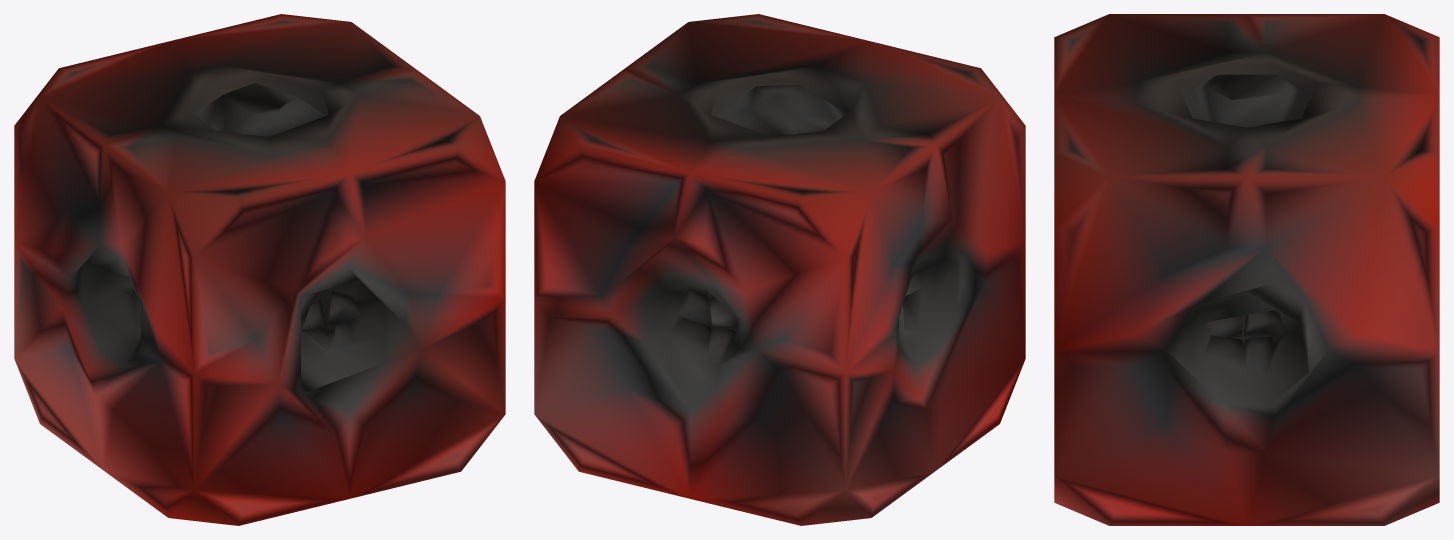
File: solar_box_lod4.glb
3 views of the same model, side by side, from view 1: azimuth 30°, elevation 25°; view 2: azimuth 150°, elevation 25°; view 3: azimuth 270°, elevation 25° (orthographic). The views are drawn at different scales.
Parts seen in each view (by area): view 1: solar_box; view 2: solar_box; view 3: solar_box.
Boxes of the visible parts, <box> form: solar_box: <box>14,14,505,525</box>; solar_box: <box>534,14,1025,525</box>; solar_box: <box>1054,14,1439,525</box>.
Bounding box in the file's own units: 2 × 2.05 × 2.
